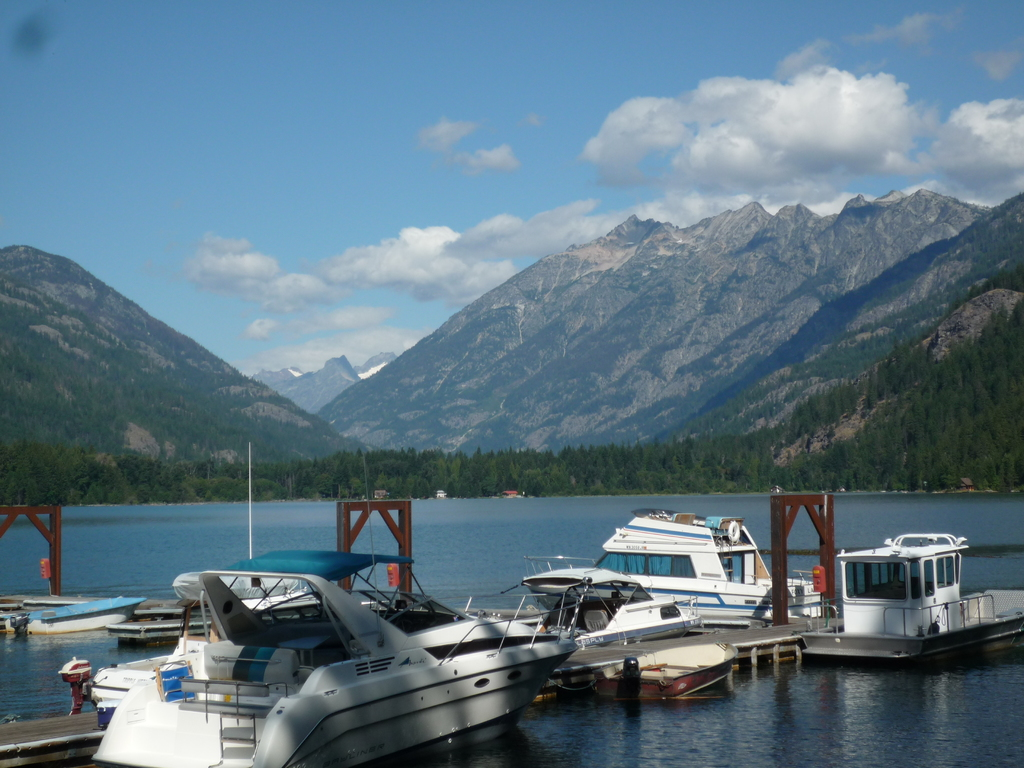boat: (83, 551, 594, 768), (493, 479, 825, 633), (783, 521, 1024, 699), (488, 540, 704, 662)
